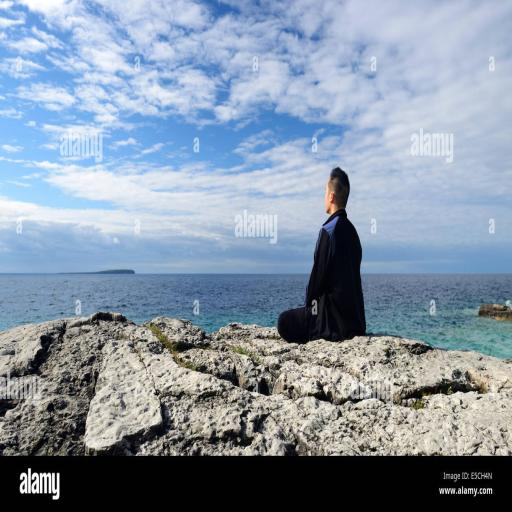person: (276, 166, 366, 344)
